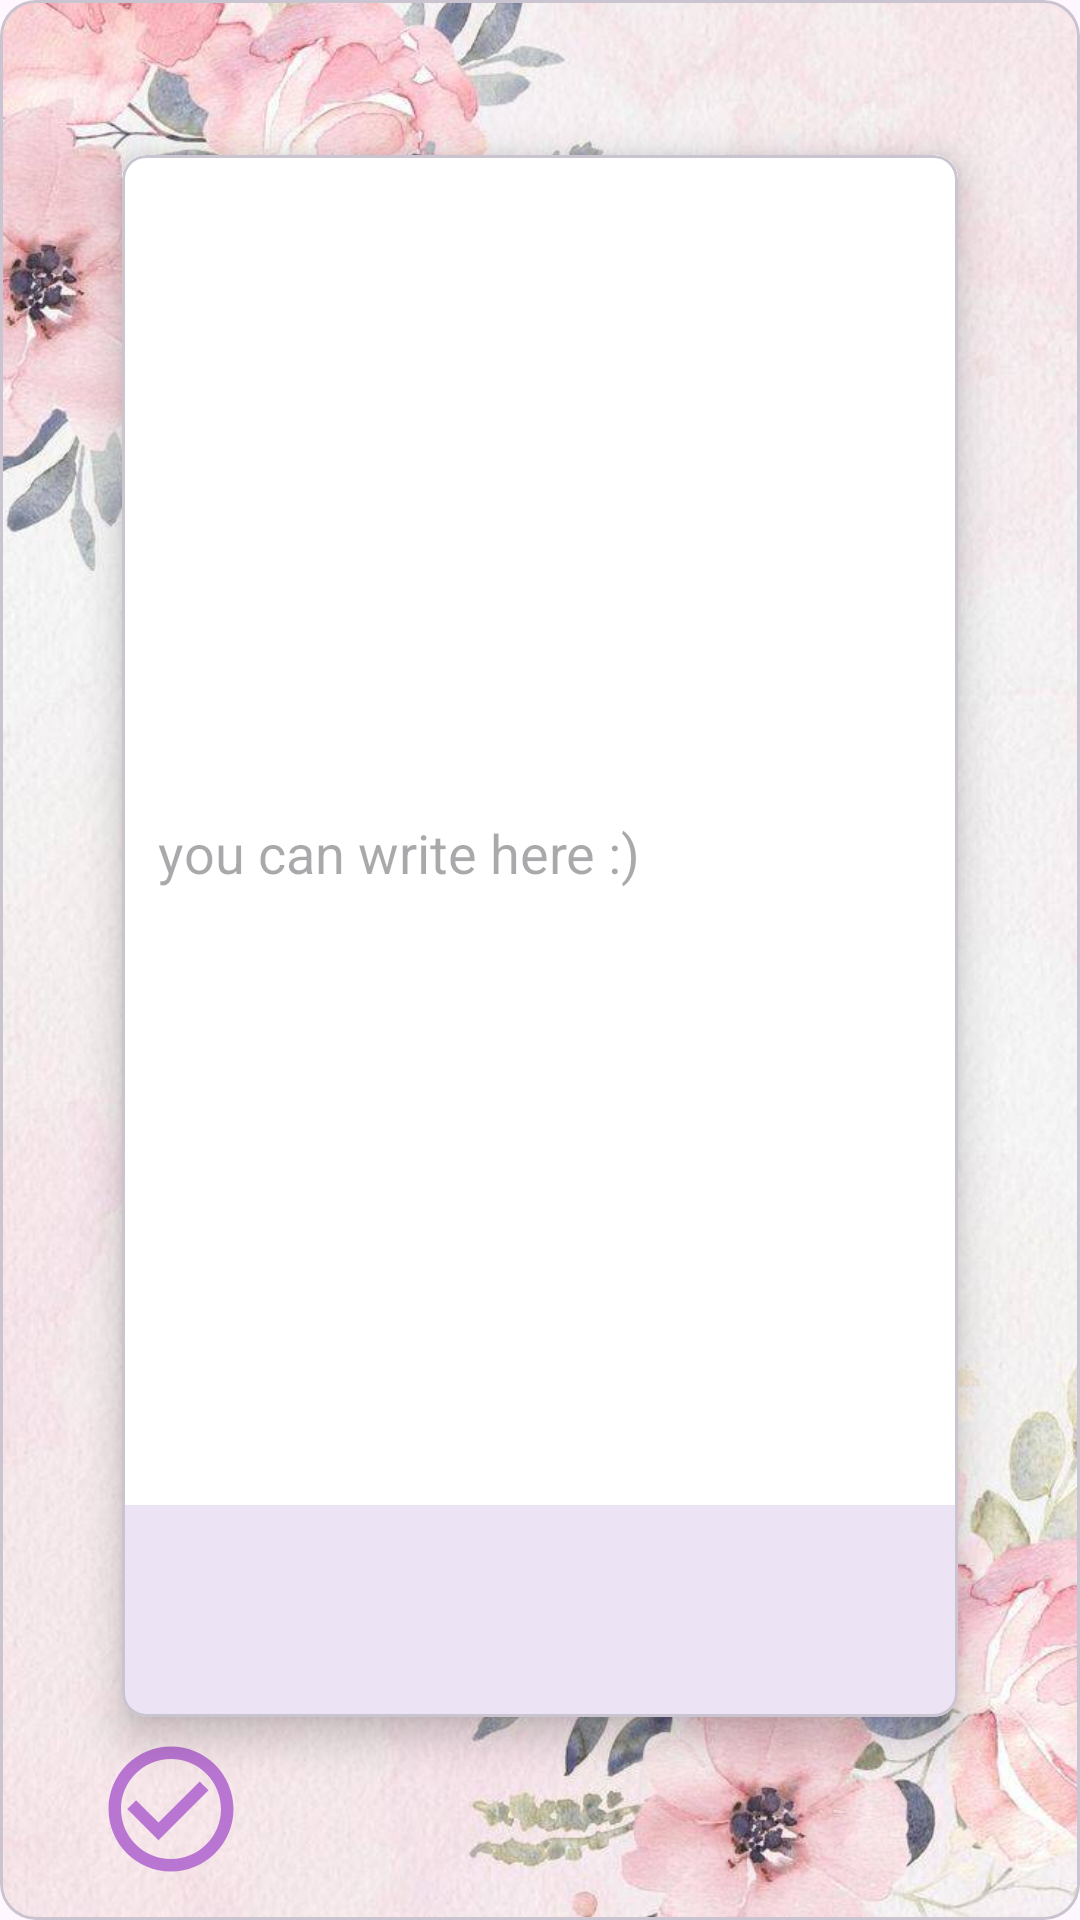

Locate icon controls on the screen. Image size 1080px×1920px, boxes as rect(x1, y1, x2, y2).
check circle: rect(108, 1738, 234, 1872)
